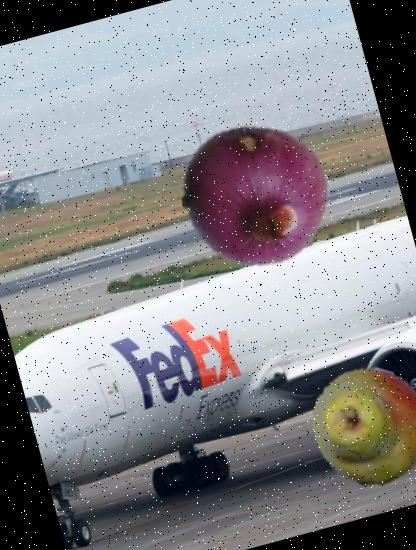Onion: (166, 106, 346, 286)
Pear: (297, 354, 416, 501)
